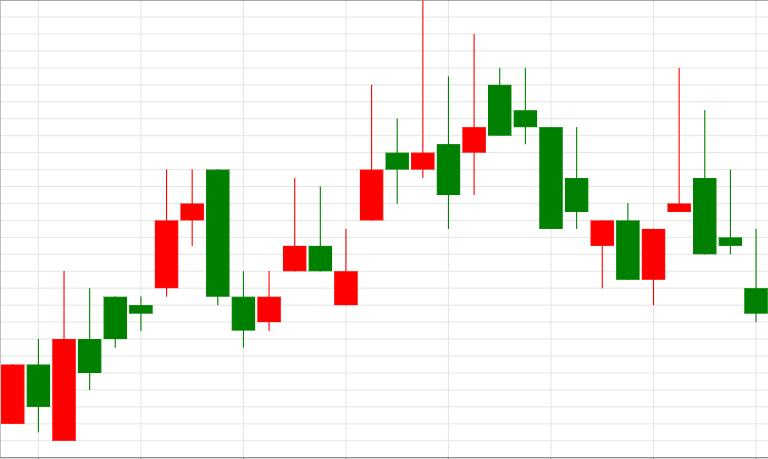bearish_engulfing_fall: (53, 169, 229, 441)
hammer_rise: (489, 69, 613, 288)
inverse_hammer_rise: (668, 68, 768, 321)
shooting_star_fall: (335, 0, 434, 306)
